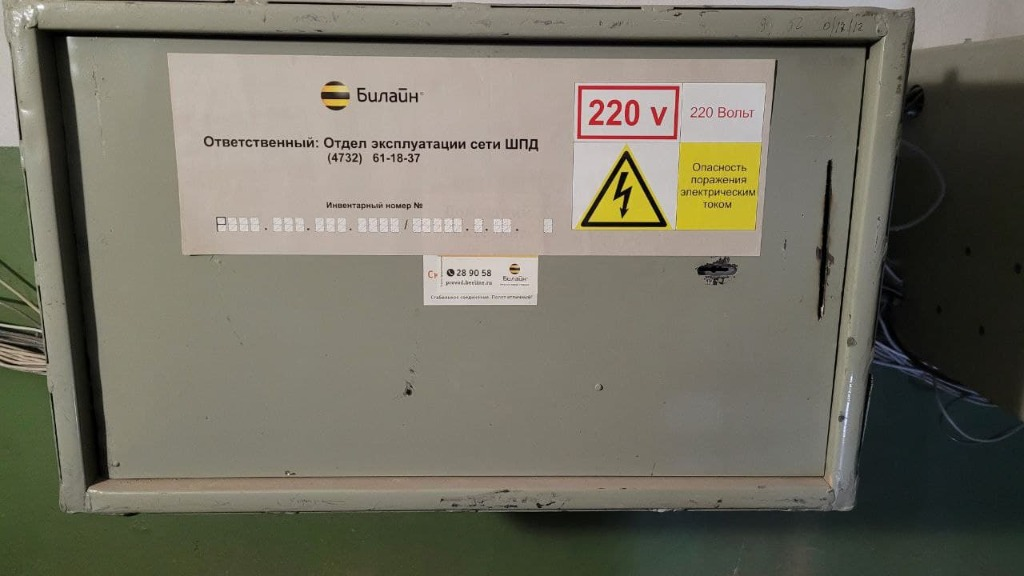e2-6u: (7, 5, 920, 521)
